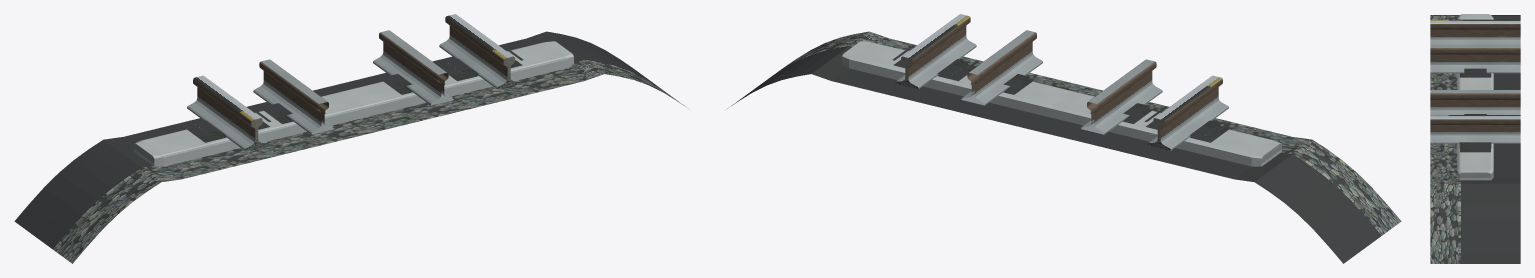
File: center_guard_low.obj
The picture shows the model from 3 angles, left to right: view 1: azimuth 30°, elevation 25°; view 2: azimuth 150°, elevation 25°; view 3: azimuth 270°, elevation 25°; orthographic projection. The views are drawn at different scales.
Visible parts, largest first — view 1: ballast, sleeper, center_guard_left, center_guard_right, rail_left, rail_right, fastener_left, fastener_right; view 2: ballast, sleeper, center_guard_left, center_guard_right, rail_left, rail_right, fastener_left, fastener_right; view 3: ballast, center_guard_left, rail_right, rail_left, center_guard_right, sleeper, fastener_right, center_fastener_left.
Boxes of the visible parts, x1,y1,x2,y2 form: ballast: (14,31,688,263); sleeper: (134,41,573,166); center_guard_left: (253,59,334,134); center_guard_right: (373,30,454,105); rail_left: (187,75,266,150); rail_right: (439,14,519,88); fastener_left: (184,106,271,142); fastener_right: (436,45,523,81); ballast: (727,31,1401,263); sleeper: (842,41,1281,166); center_guard_left: (1081,59,1162,134); center_guard_right: (961,30,1042,105); rail_left: (1149,75,1228,150); rail_right: (896,14,976,88); fastener_left: (1144,106,1231,142); fastener_right: (892,45,979,81); ballast: (1430,15,1520,263); center_guard_left: (1430,44,1520,73); rail_right: (1430,115,1520,143); rail_left: (1430,19,1520,44); center_guard_right: (1430,90,1520,114); sleeper: (1457,14,1493,180); fastener_right: (1459,142,1491,152); center_fastener_left: (1459,68,1491,77).
Size of the model in its own units: 3.7 by 0.5683 by 0.6.
